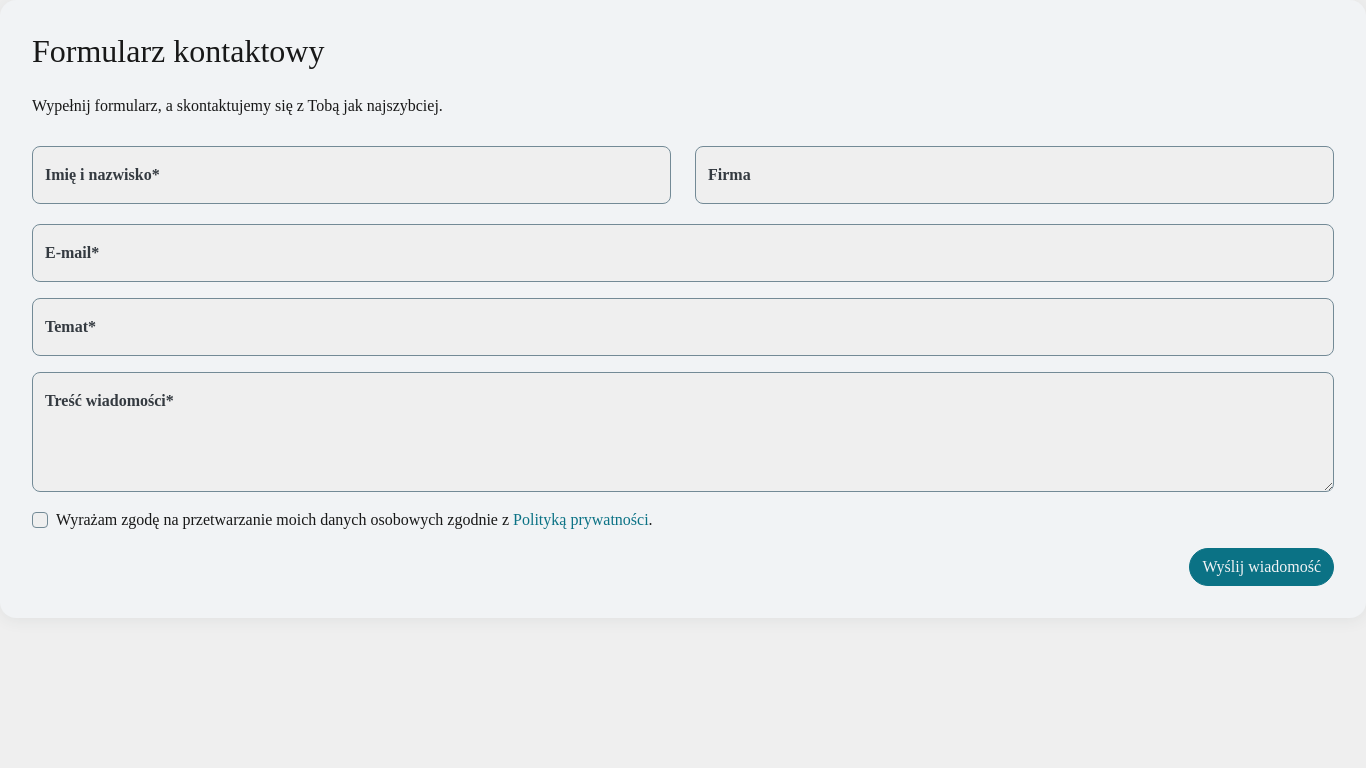
Test: ContactForm component › submits form successfully and shows success popup
This screenshot has width=1366, height=768.
Type "John Doe" into the field labelled "Imię i nazwisko*" at (352, 175), box [32,146,671,204]
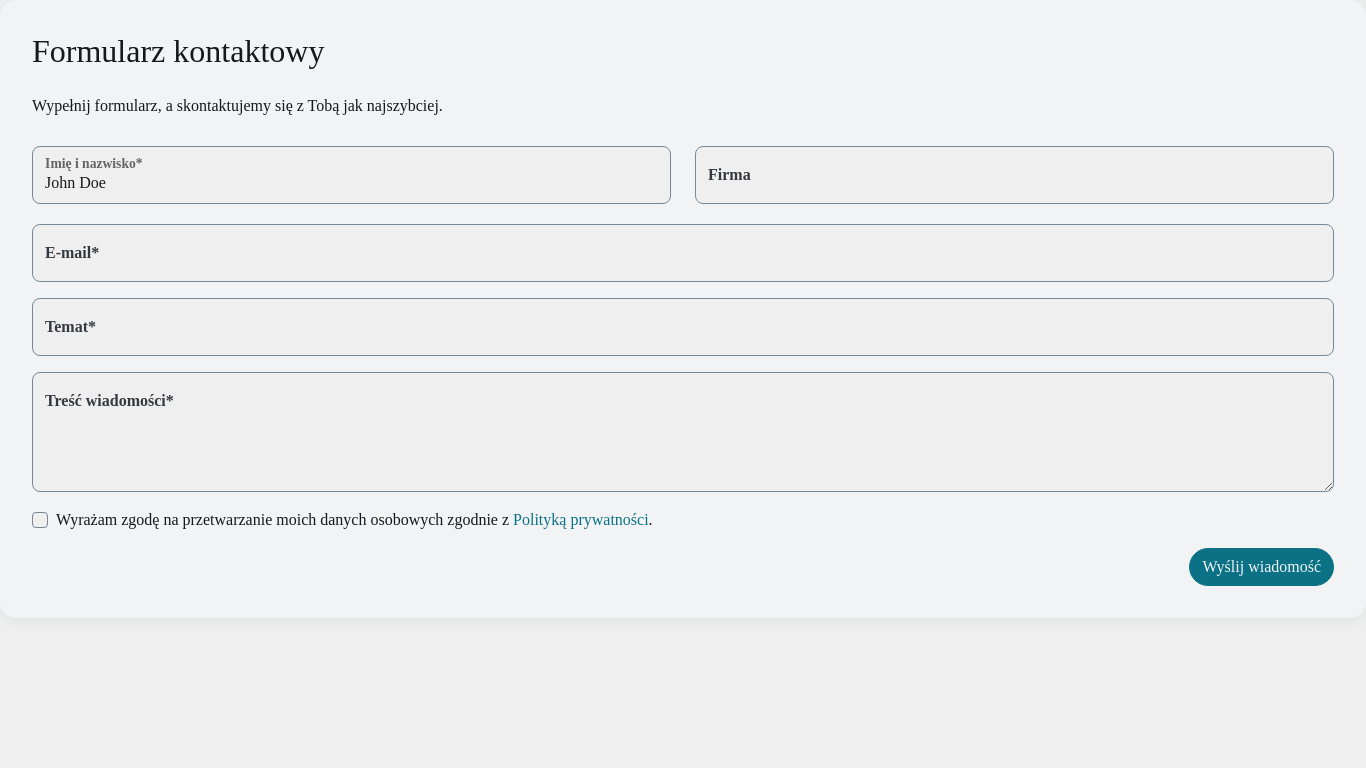
Type "john@example.com" into the field labelled "E-mail*" at (683, 253), box [32,224,1334,282]
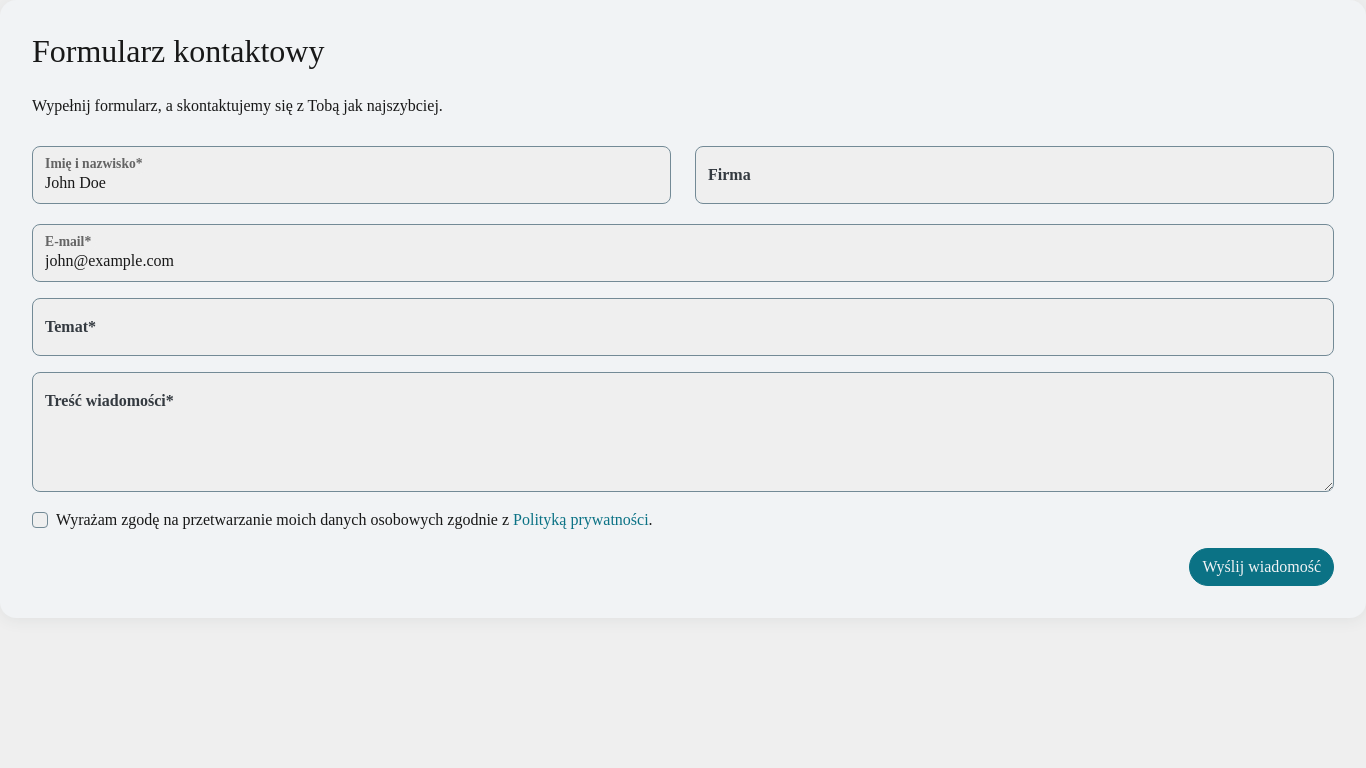
Type "Test Subject" into the field labelled "Temat*" at (683, 327), box [32,298,1334,356]
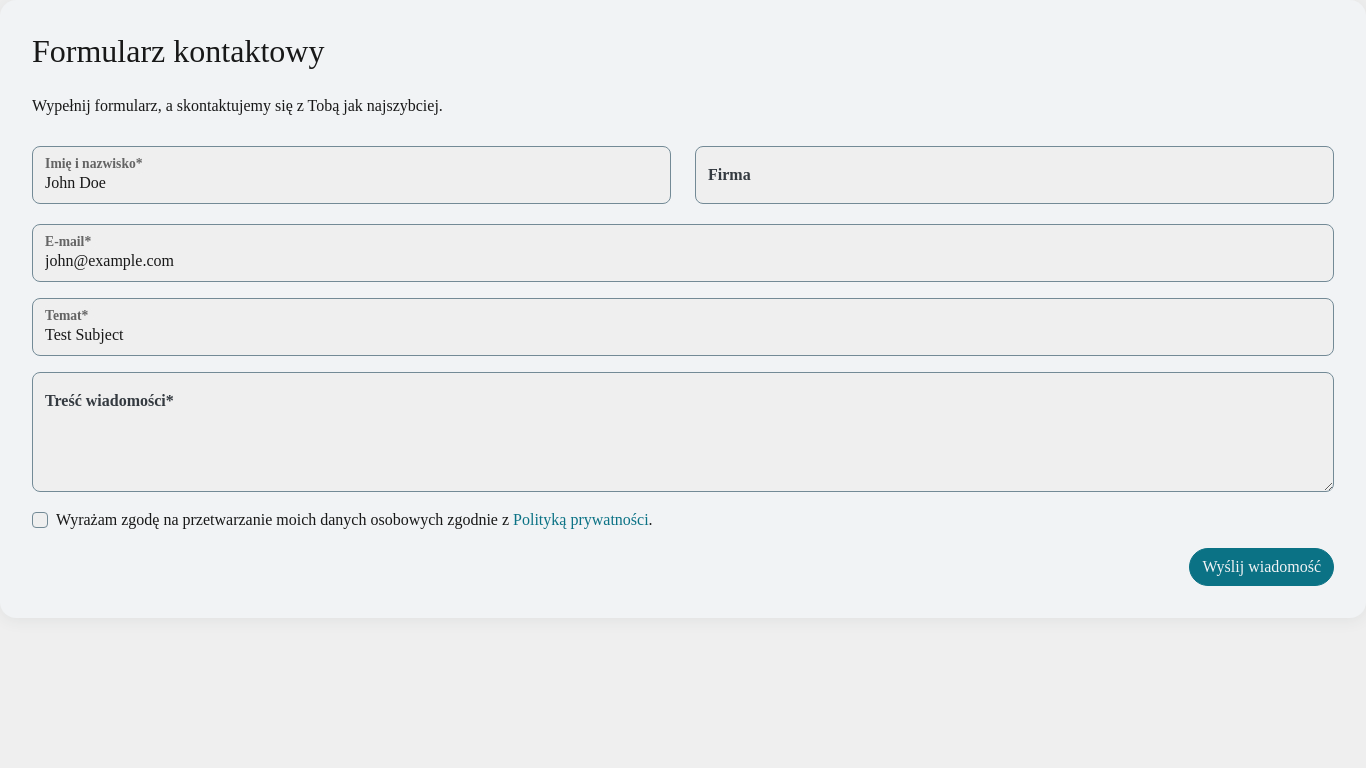
Type "This is a test message." into the text box labelled "Treść wiadomości*" at (683, 432), box [32,372,1334,492]
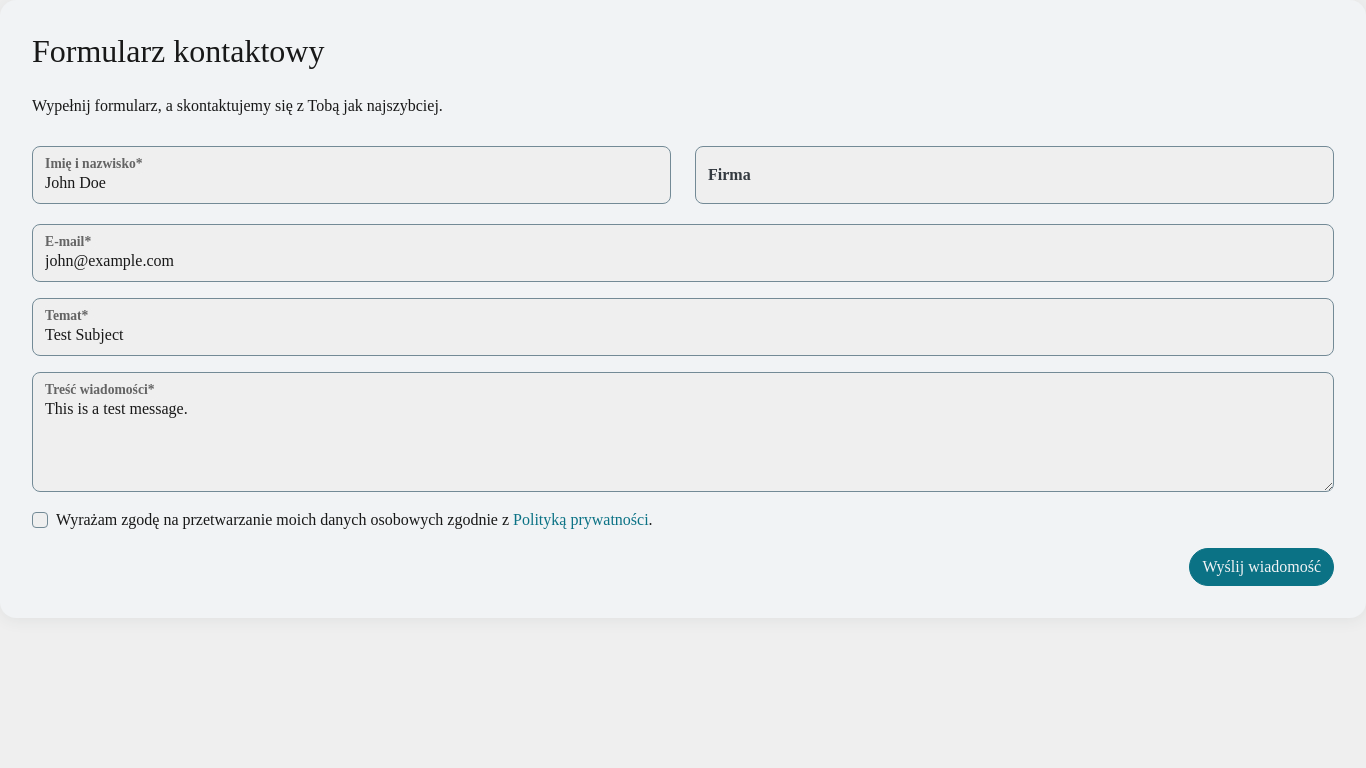
Click the checkbox labelled "Wyrażam zgodę" at (40, 520), box [32,512,48,528]
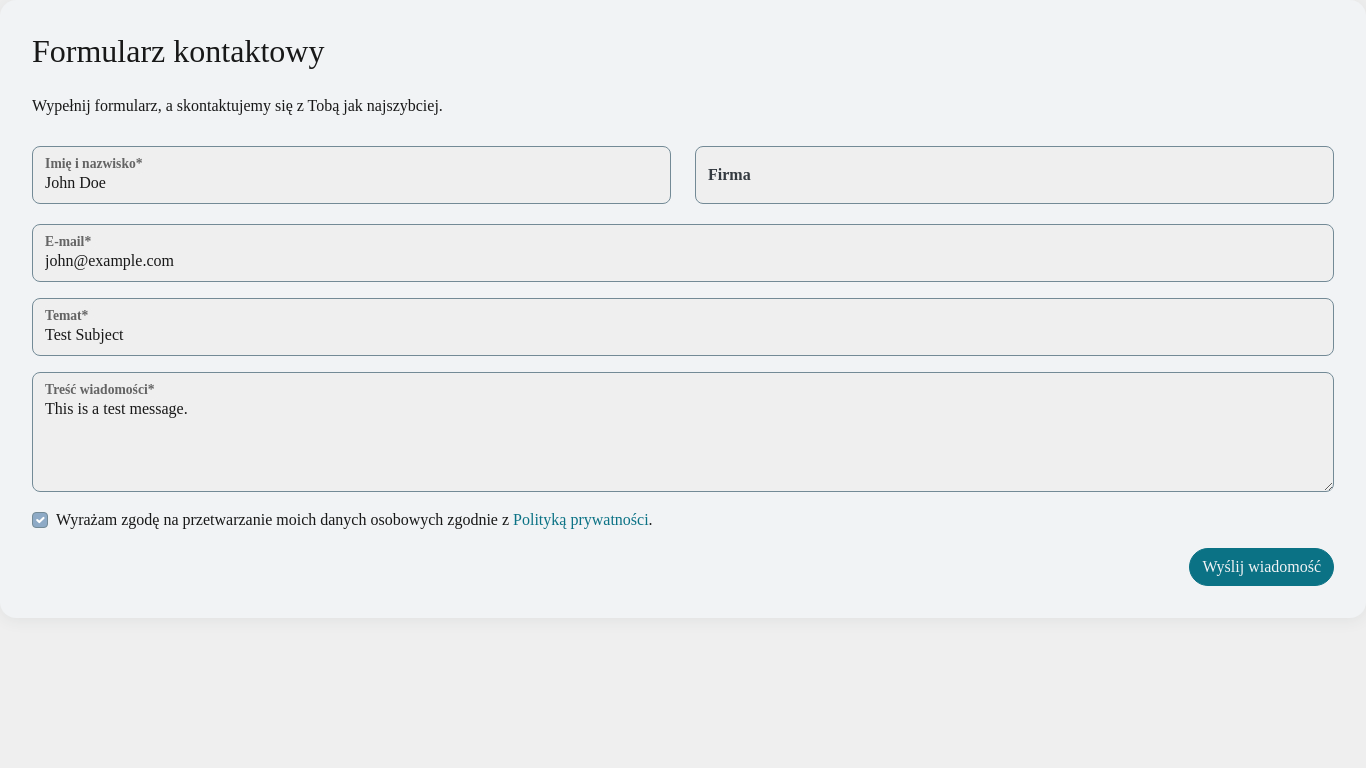
Click the button "Wyślij wiadomość" at (1262, 567), box [1189,548,1334,586]
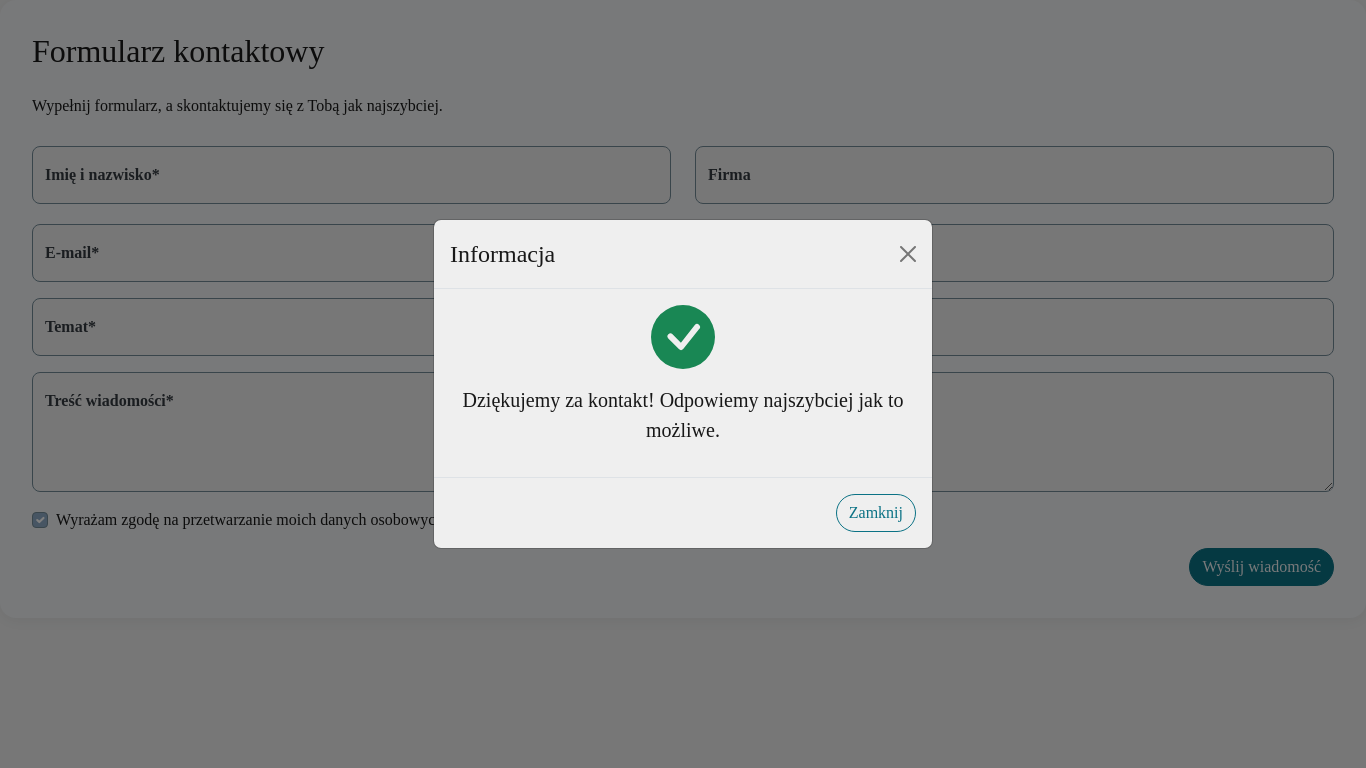
Now the text "Dziękujemy za kontakt! Odpowiemy najszybciej jak to możliwe." is shown, box [450,385,916,445]
